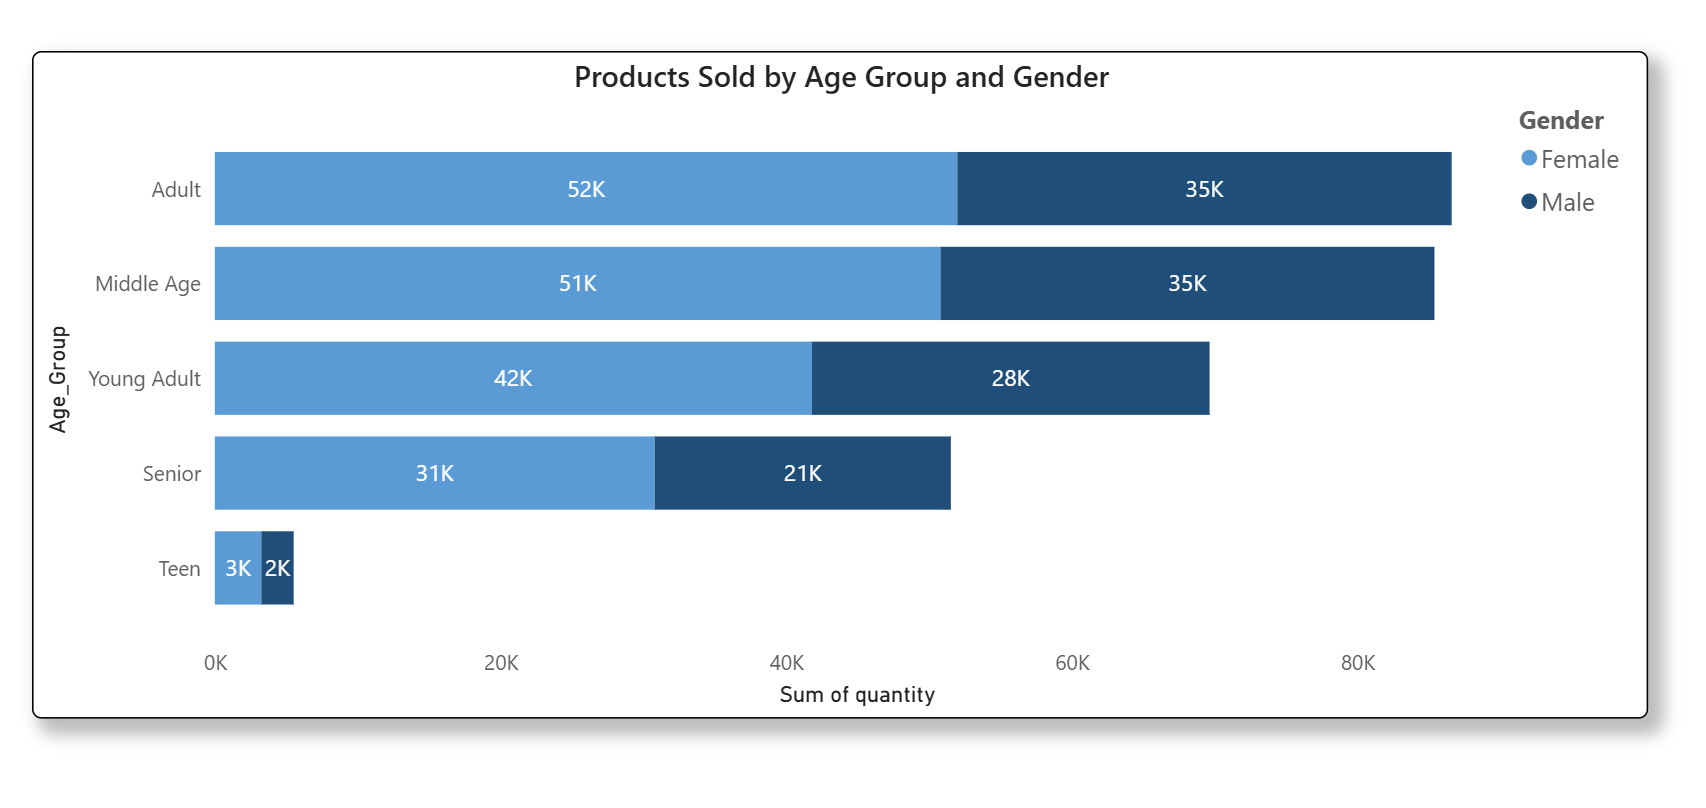

What the dashboard file says about the page in this screenshot:
{"tool":"powerbi","page":{"name":"Products sold by age group and gender","canvas":[1280,720],"ordinal":5},"visuals":[{"type":"barChart","title":"Products Sold by Age Group and Gender","fields":{"Y":["Sum(customer_data.quantity)"],"Category":["customer_data.Age_Group"],"Series":["customer_data.gender"]},"box":[70.7,158.1,1038.4,429.2],"z":0}]}

Visuals, with their boxes on the page's 1280x720 design canvas (x1, y1, x2, y2). These are canvas units, not pixel positions in the 1706x808 screenshot, which may show the page scaled, cropped or inside an application window:
"Products Sold by Age Group and Gender" barChart: region(71, 158, 1109, 587)
